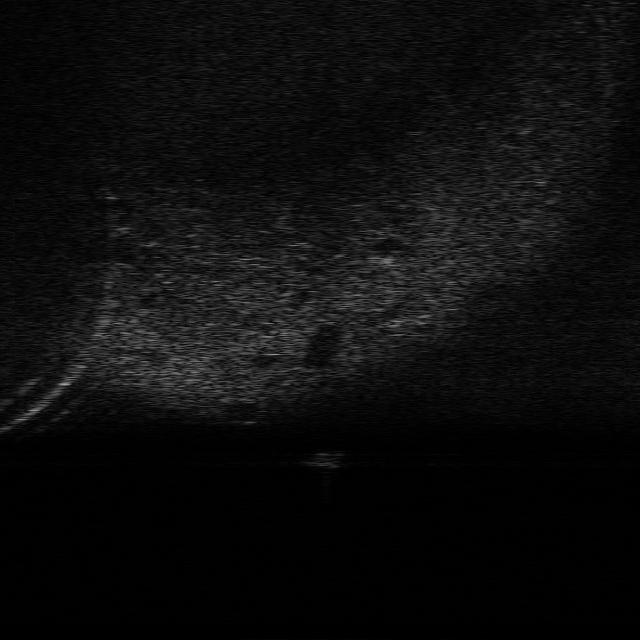cube: (301, 448, 350, 468)
